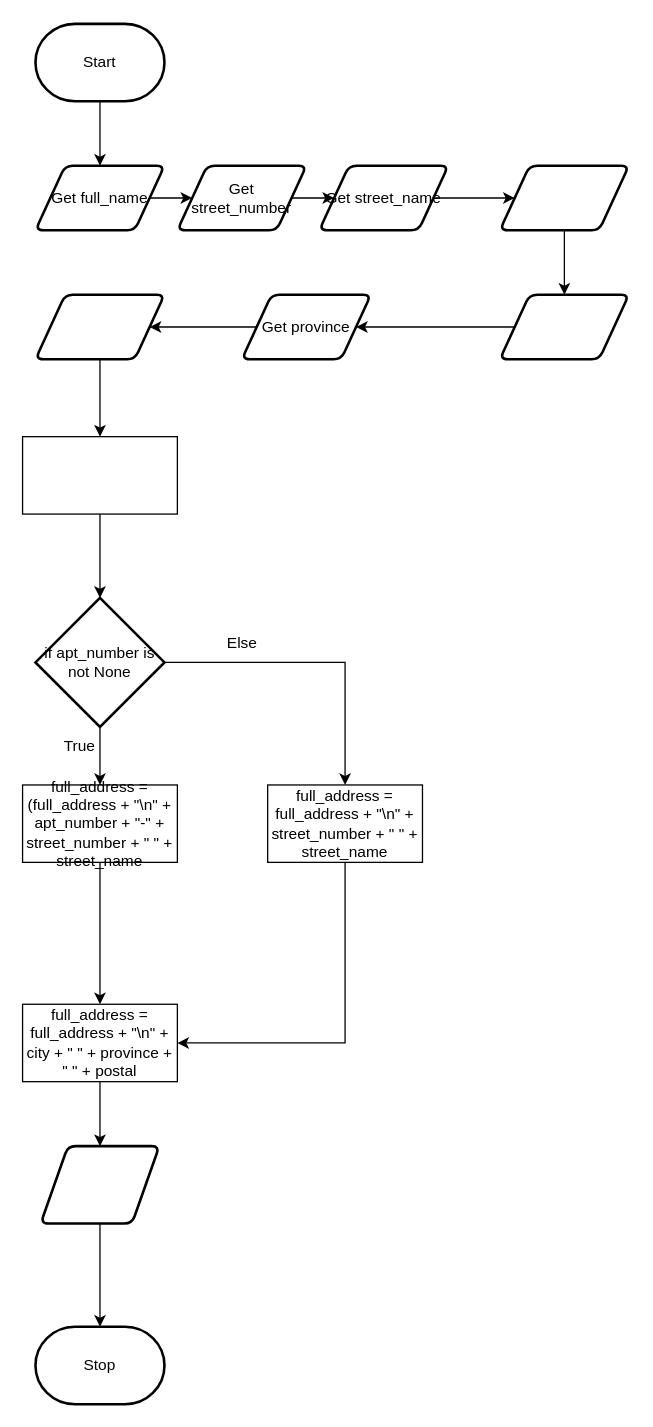
The diagram is 653 pixels wide and 1427 high, and some of its shapes have lost their labels. Here are the shapes that lost their labels. From the top down, the centre of each, then its label:
At point (564, 197): "Get apt_number=None".
At point (99, 326): "Get postal".
At point (564, 326): "Get city".
At point (99, 474): "full_address = full_name".
At point (99, 1184): "return full_address".
